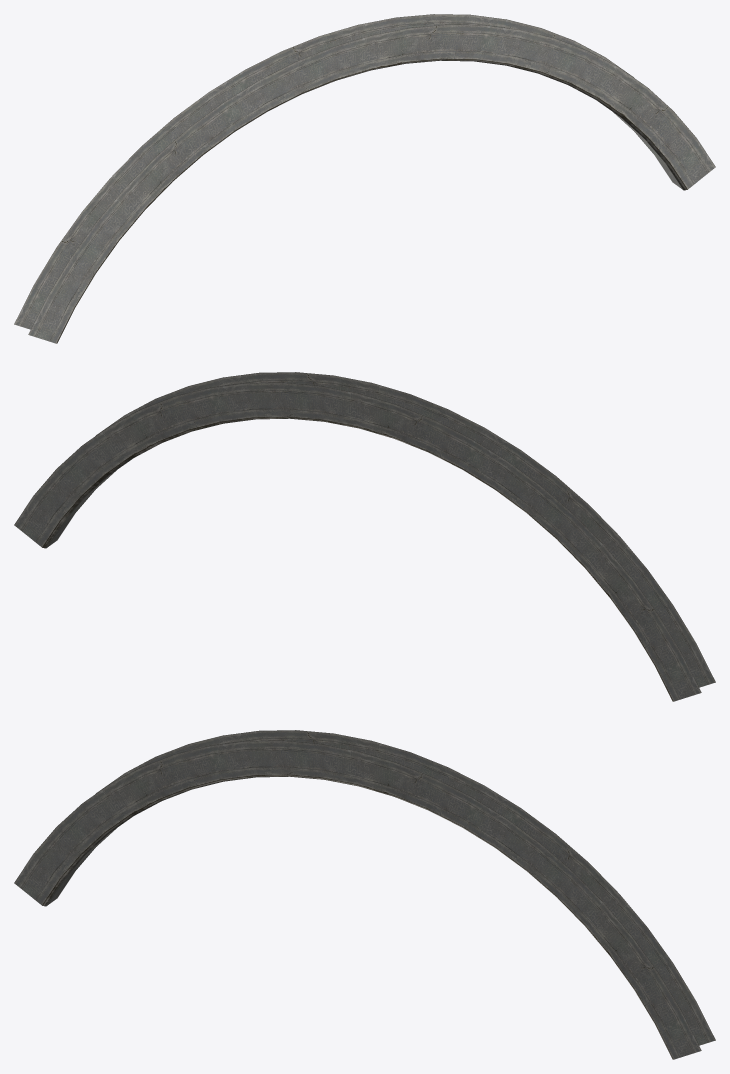
File: FBX_Arch_Straight.fbx
3 renders of one model, top to bottom at view 1: azimuth 30°, elevation 25°; view 2: azimuth 150°, elevation 25°; view 3: azimuth 330°, elevation 25°, orthographic.
Parts seen in each view (by area): view 1: Arch_Straight; view 2: Arch_Straight; view 3: Arch_Straight.
Boxes of the visible parts, <box> form: Arch_Straight: <box>14,14,715,343</box>; Arch_Straight: <box>14,372,715,701</box>; Arch_Straight: <box>14,730,715,1059</box>.
Bounding box in the file's own units: 1058 × 342 × 38.
Materials: 1 (1 with a texture image).
